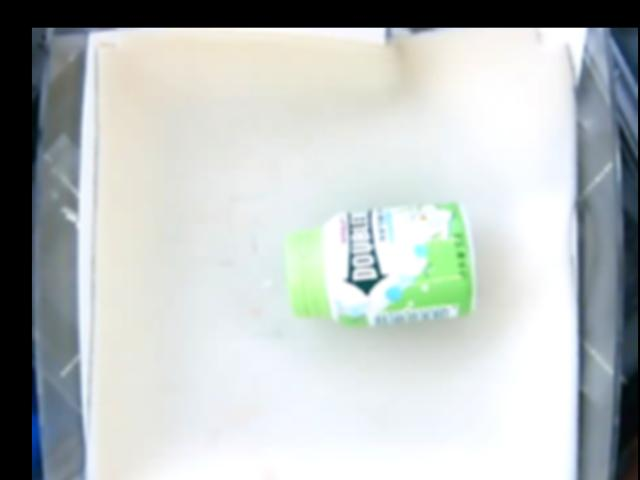Bottle: (284, 201, 477, 326)
